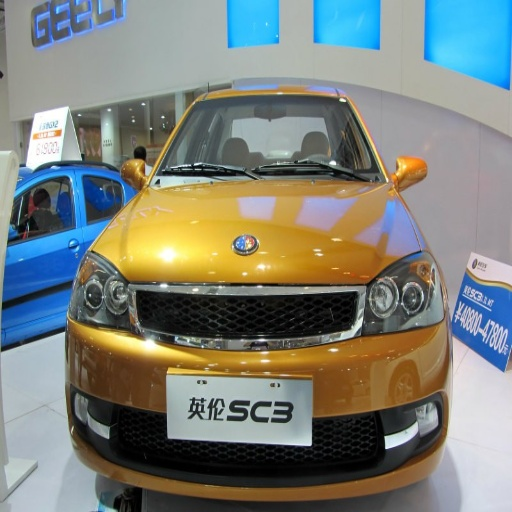front_bumper: (67, 282, 445, 494)
front_right_light: (71, 249, 142, 337)
hood: (103, 175, 416, 282)
